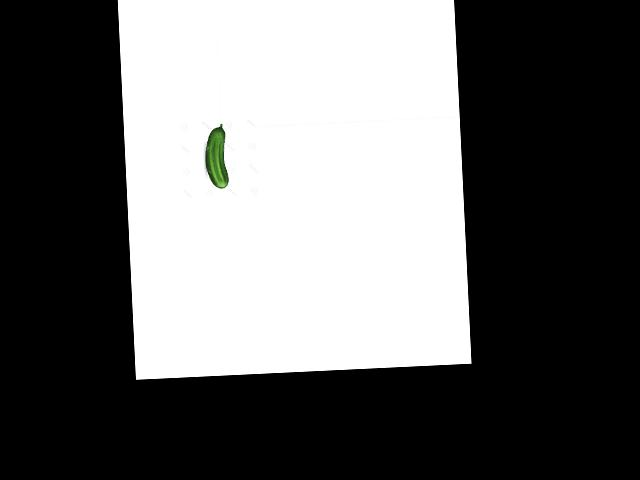cucumber: (203, 124, 228, 189)
